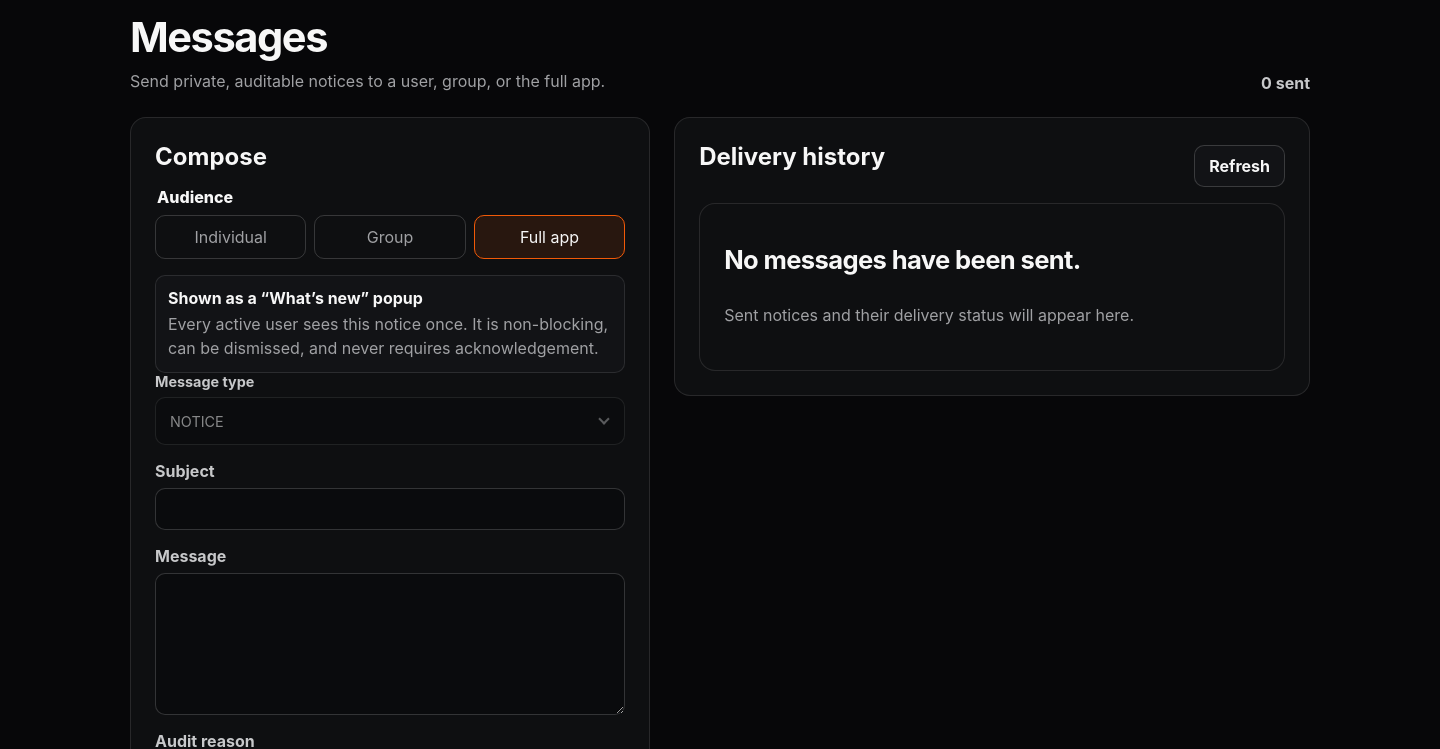
it: PlatformMessagingController › locks full-app blasts to a dismissible NOTICE without acknowledgement
Expected: the text "Shown as a “What’s new” popup" is shown, [168,288,423,308]
Expected: the dropdown named "Message type" is disabled, [155,397,625,445]
Step 1. Type "Version update" into the field labelled "Subject" → (390, 509), box [155,488,625,530]
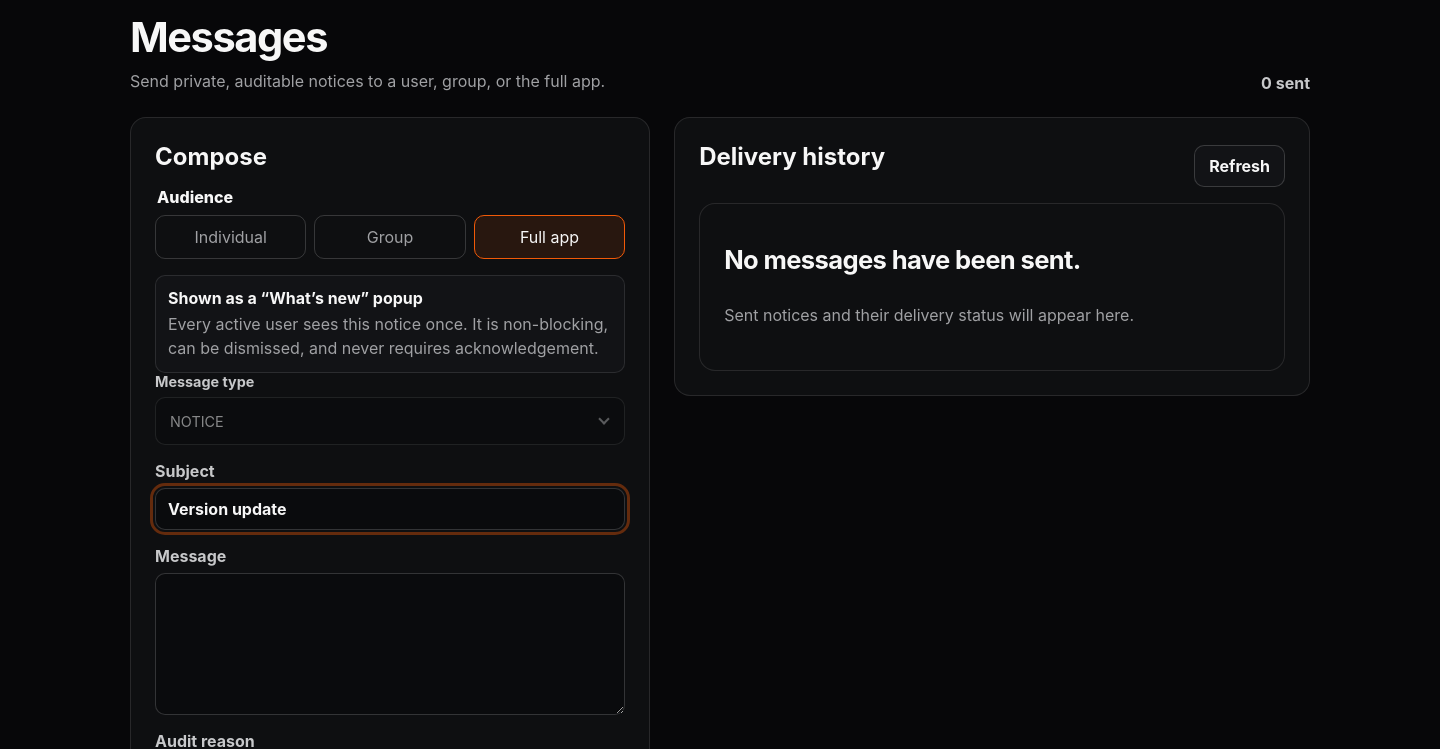
Step 2. Type "A new workout experience is now available." into the text box labelled "Message" → (390, 644), box [155,573,625,715]
(page scrolled)
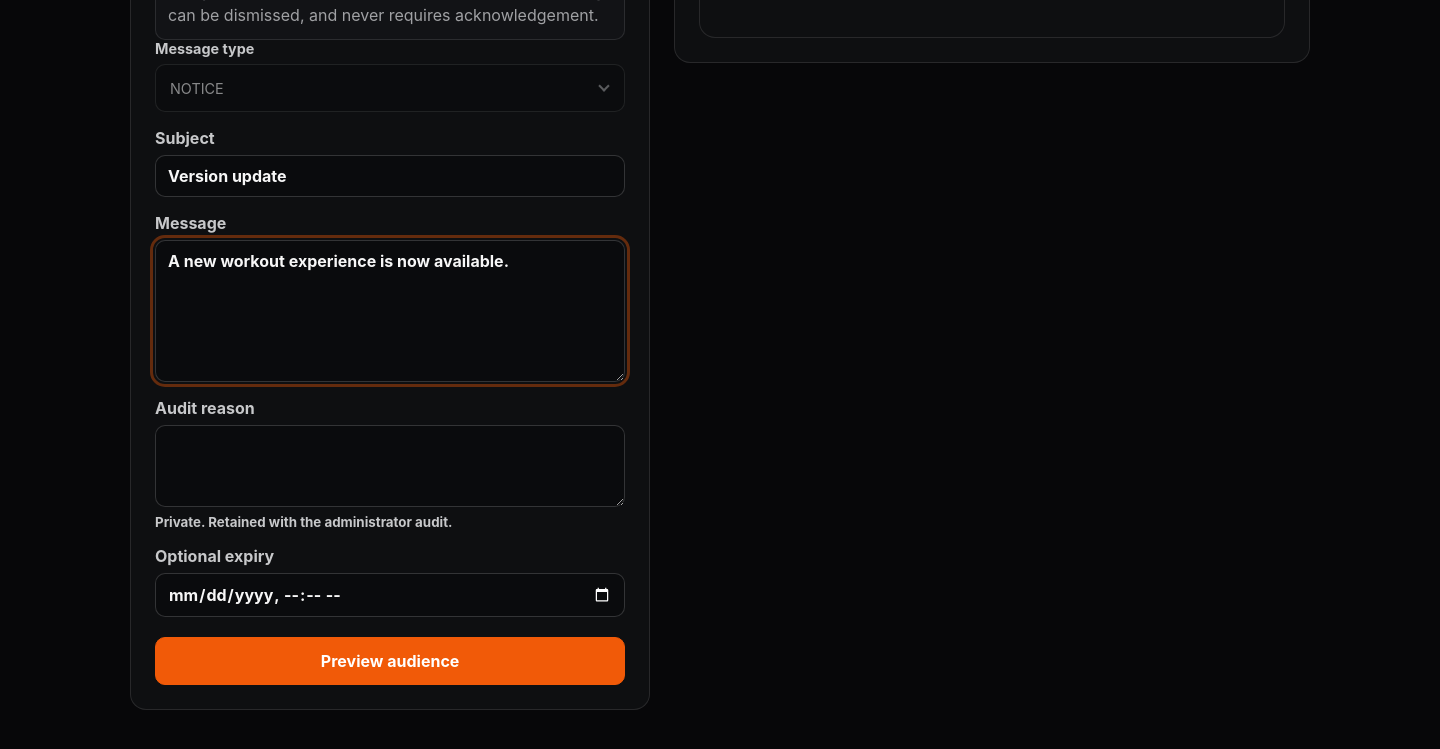
Step 3. Type "Release announcement" into the text box labelled "Audit reason" → (390, 466), box [155,425,625,507]
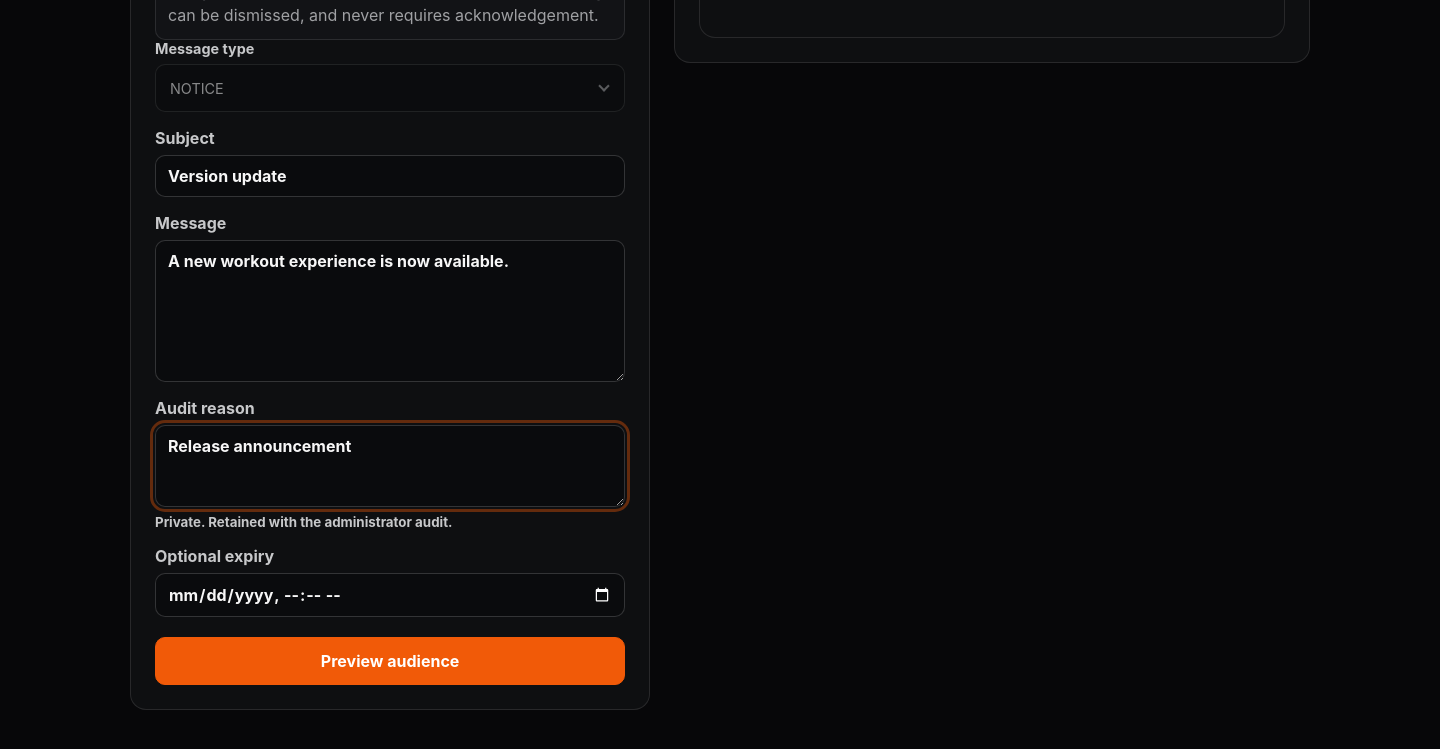
Step 4. Click the button "Preview audience" → (390, 661), box [155,637,625,685]
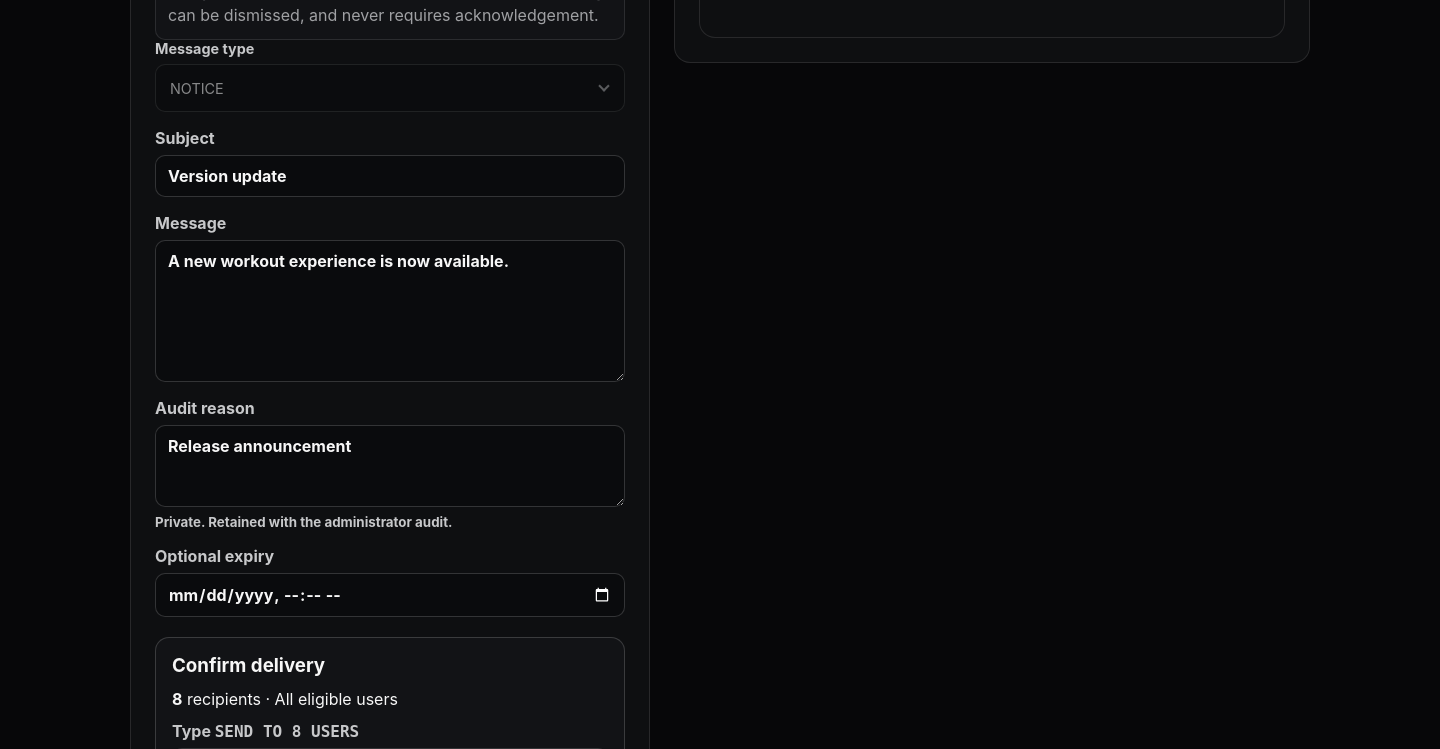
Expected: the text "SEND TO 8 USERS" is shown, [215,722,359,741]
